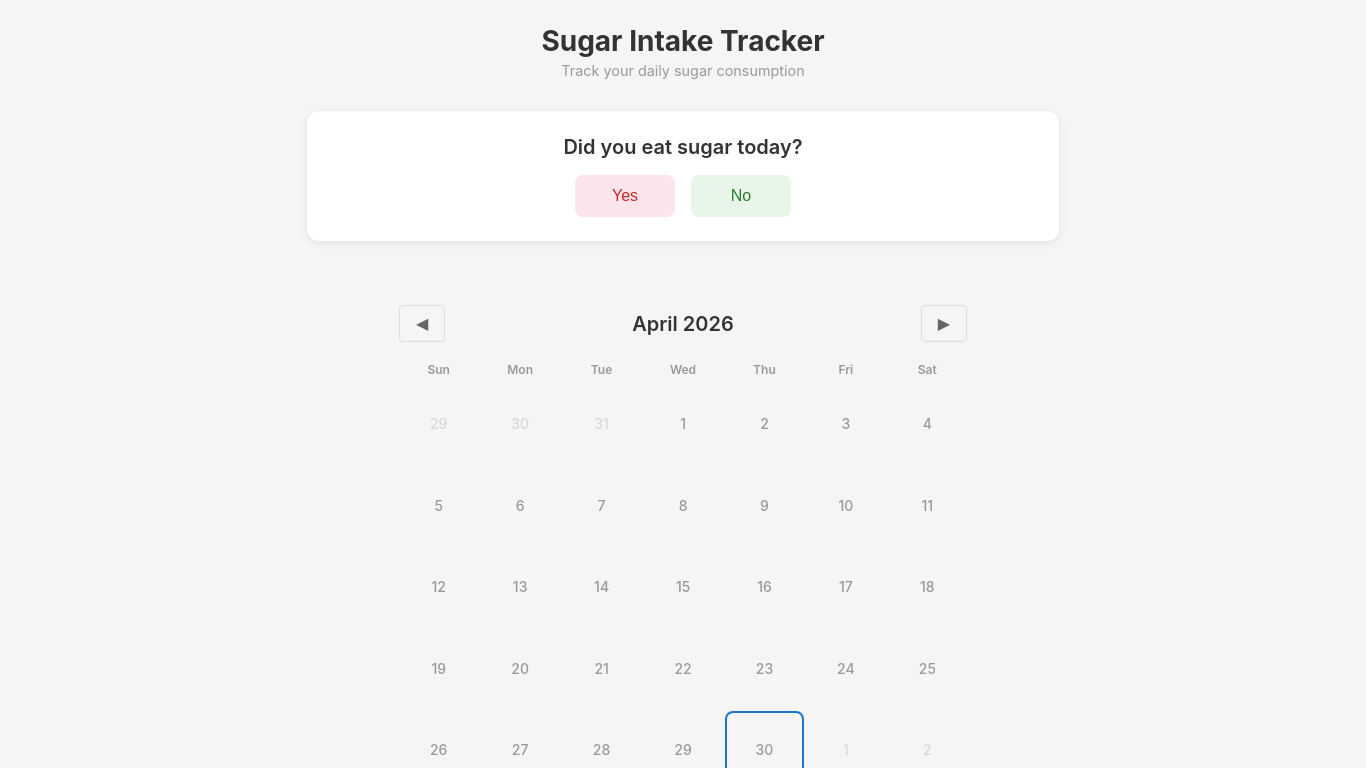
Scenario: App › opens UpdateDialog when a day cell is clicked
Note: Click on day 15 – always unique in the grid (no leading/trailing duplicates)
Click the button with test id "day-cell-15" at (683, 588), box [643,548,723,627]
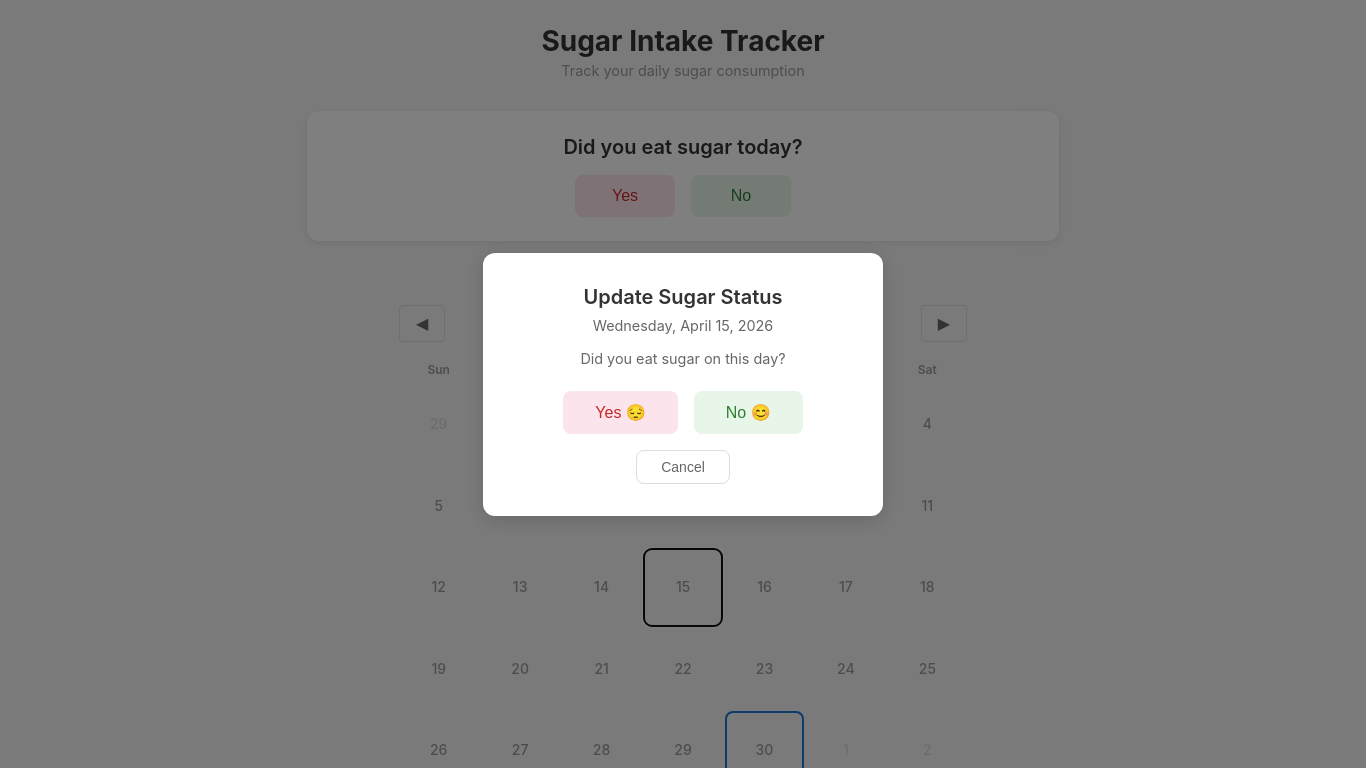
Expected: the element with test id "update-dialog" is shown, [483,252,883,516]
